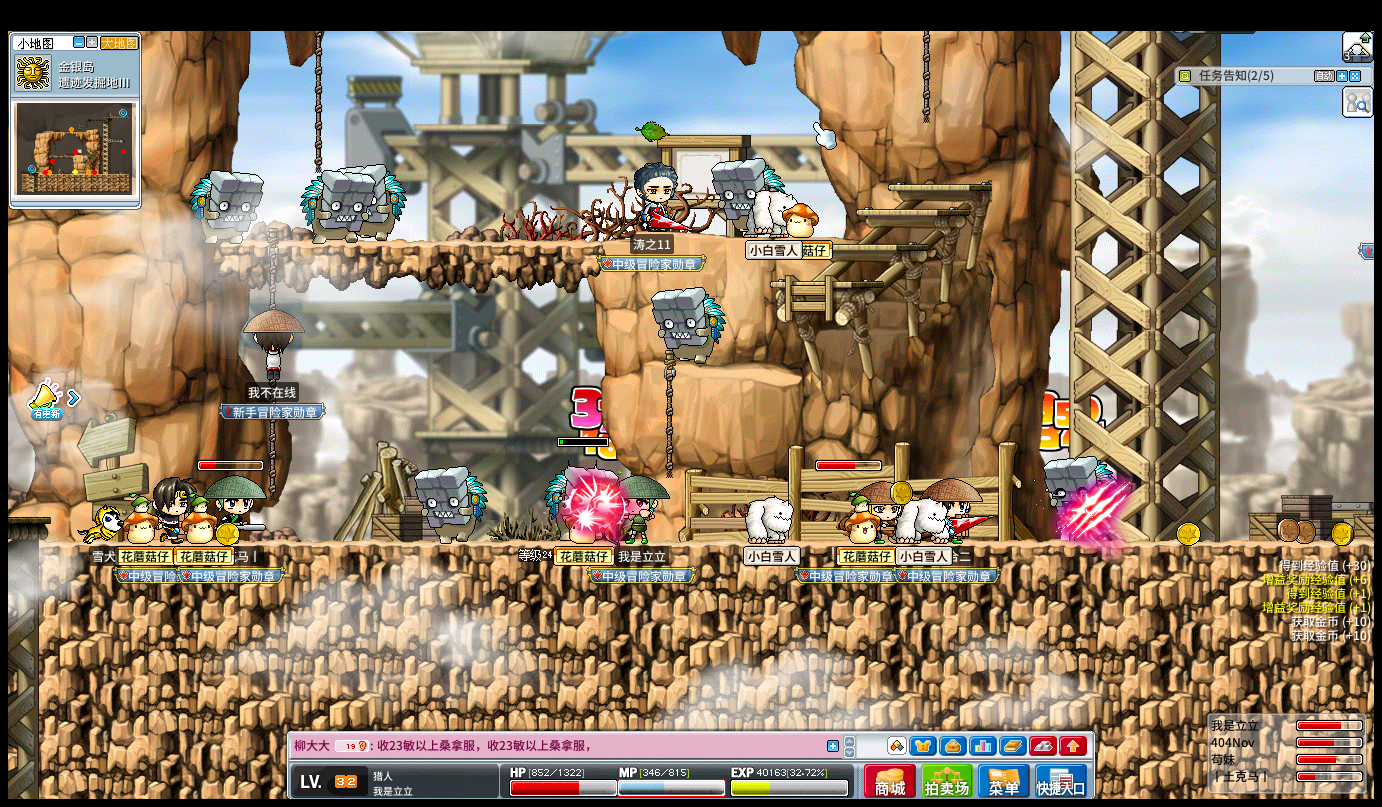floor: (39, 537, 1373, 551), (215, 238, 599, 250), (700, 363, 803, 387), (853, 205, 973, 218), (767, 280, 881, 291), (824, 242, 930, 253), (716, 233, 848, 241), (856, 206, 969, 215), (767, 281, 881, 289), (888, 184, 992, 192), (888, 183, 990, 190), (7, 517, 52, 524)
monster: (1043, 456, 1119, 541), (412, 465, 489, 543), (299, 166, 376, 244), (651, 287, 726, 367), (189, 169, 266, 245), (543, 465, 619, 541), (358, 165, 406, 243), (710, 158, 777, 198)
rope: (663, 350, 675, 482), (314, 31, 323, 174), (264, 229, 275, 312), (921, 29, 930, 122)
